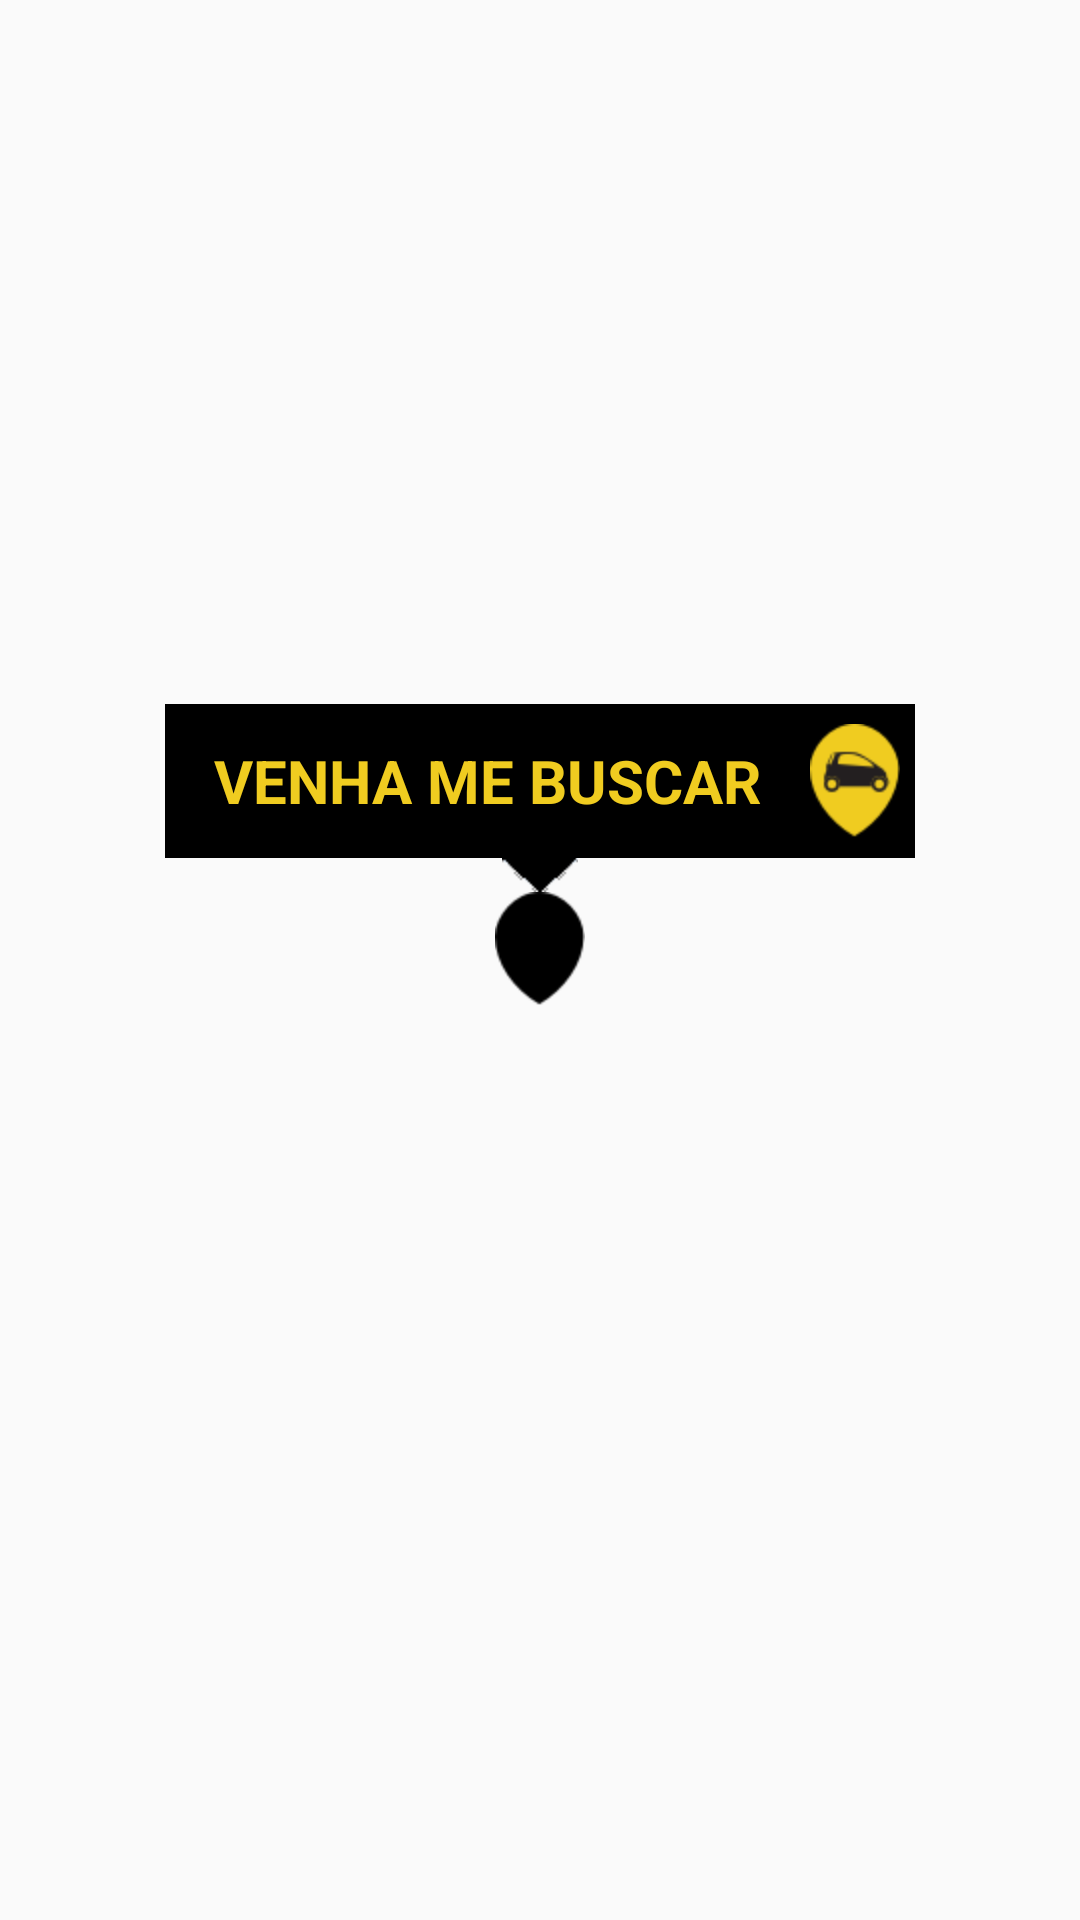

Screen size 1080x1920. Icon name, then its center in pixels as point (x, y):
pin motorista: point (855, 780)
popup down arrow: point (540, 875)
